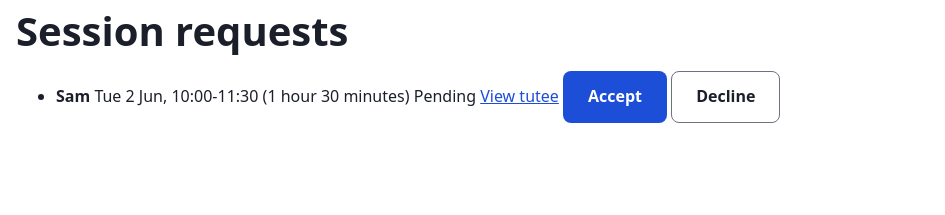
Test: SessionRequestsPage › shows the conflict message when accepting an unavailable time
Click the button "Accept": click(615, 97) [563,71,667,123]
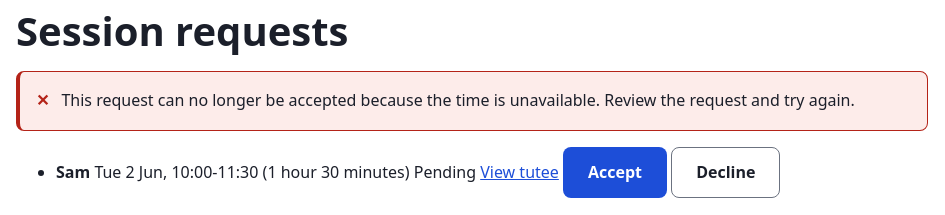
expect the text "no longer be accepted because the time is unavailable" is shown: met, box [61,89,855,111]
